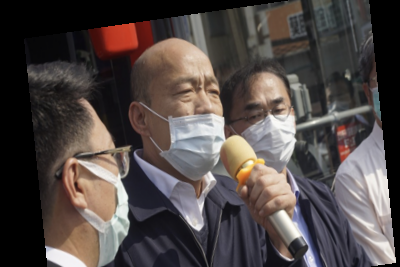mask_weared_incorrect: (121, 40, 240, 186)
